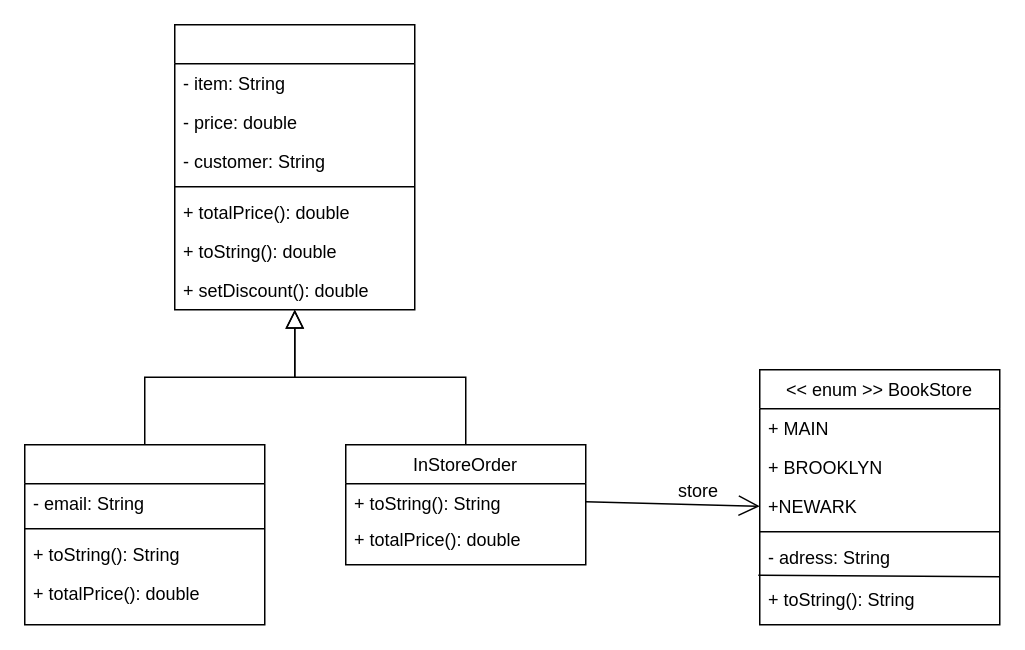
The diagram is 1025 pixels wide and 650 high, and some of its shapes have lost their labels. The shapes that lost their labels are listed below. From the top down, each one's box as (x1, y1, x2, y2) in pixels, then its label:
(173, 23, 415, 310): Order
(23, 443, 265, 625): OnlineOrder
